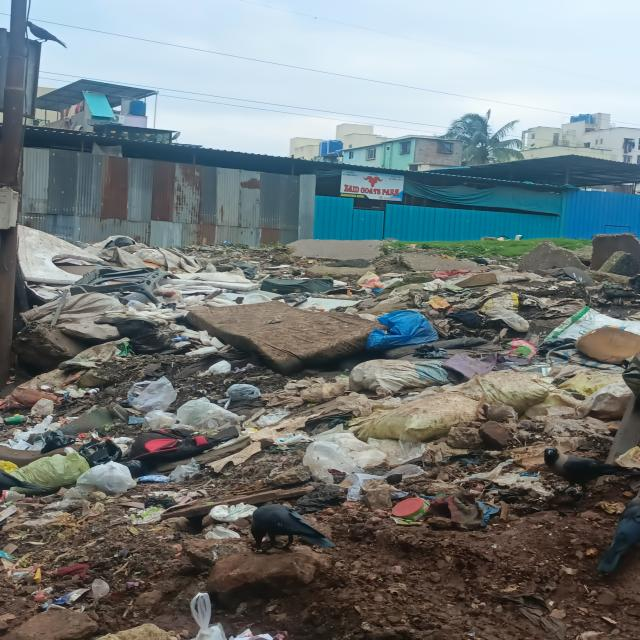garbage: (17, 235, 636, 633)
